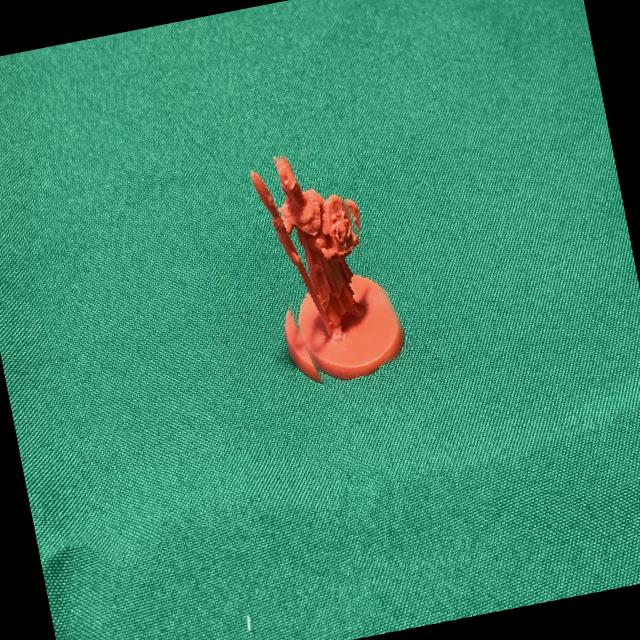amon_follower: (251, 155, 405, 381)
